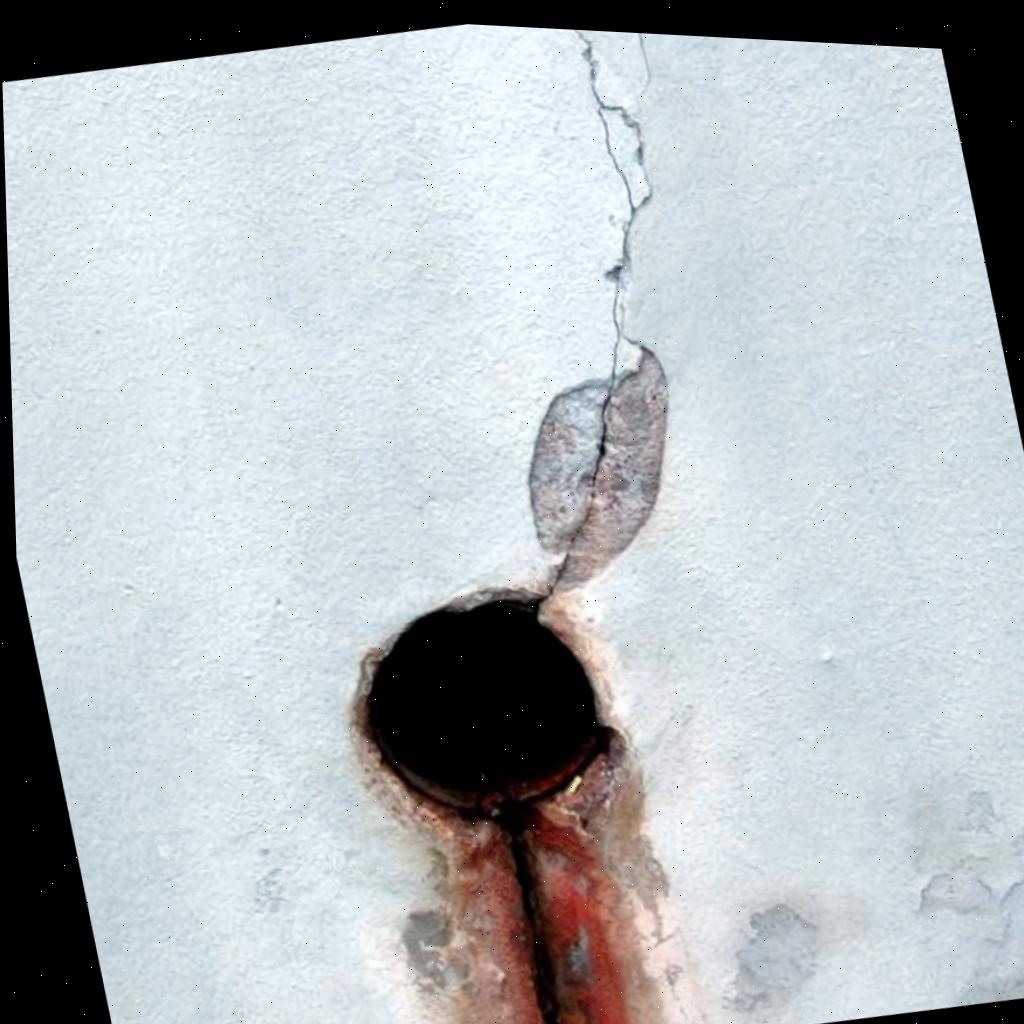spalling: (529, 350, 668, 591)
